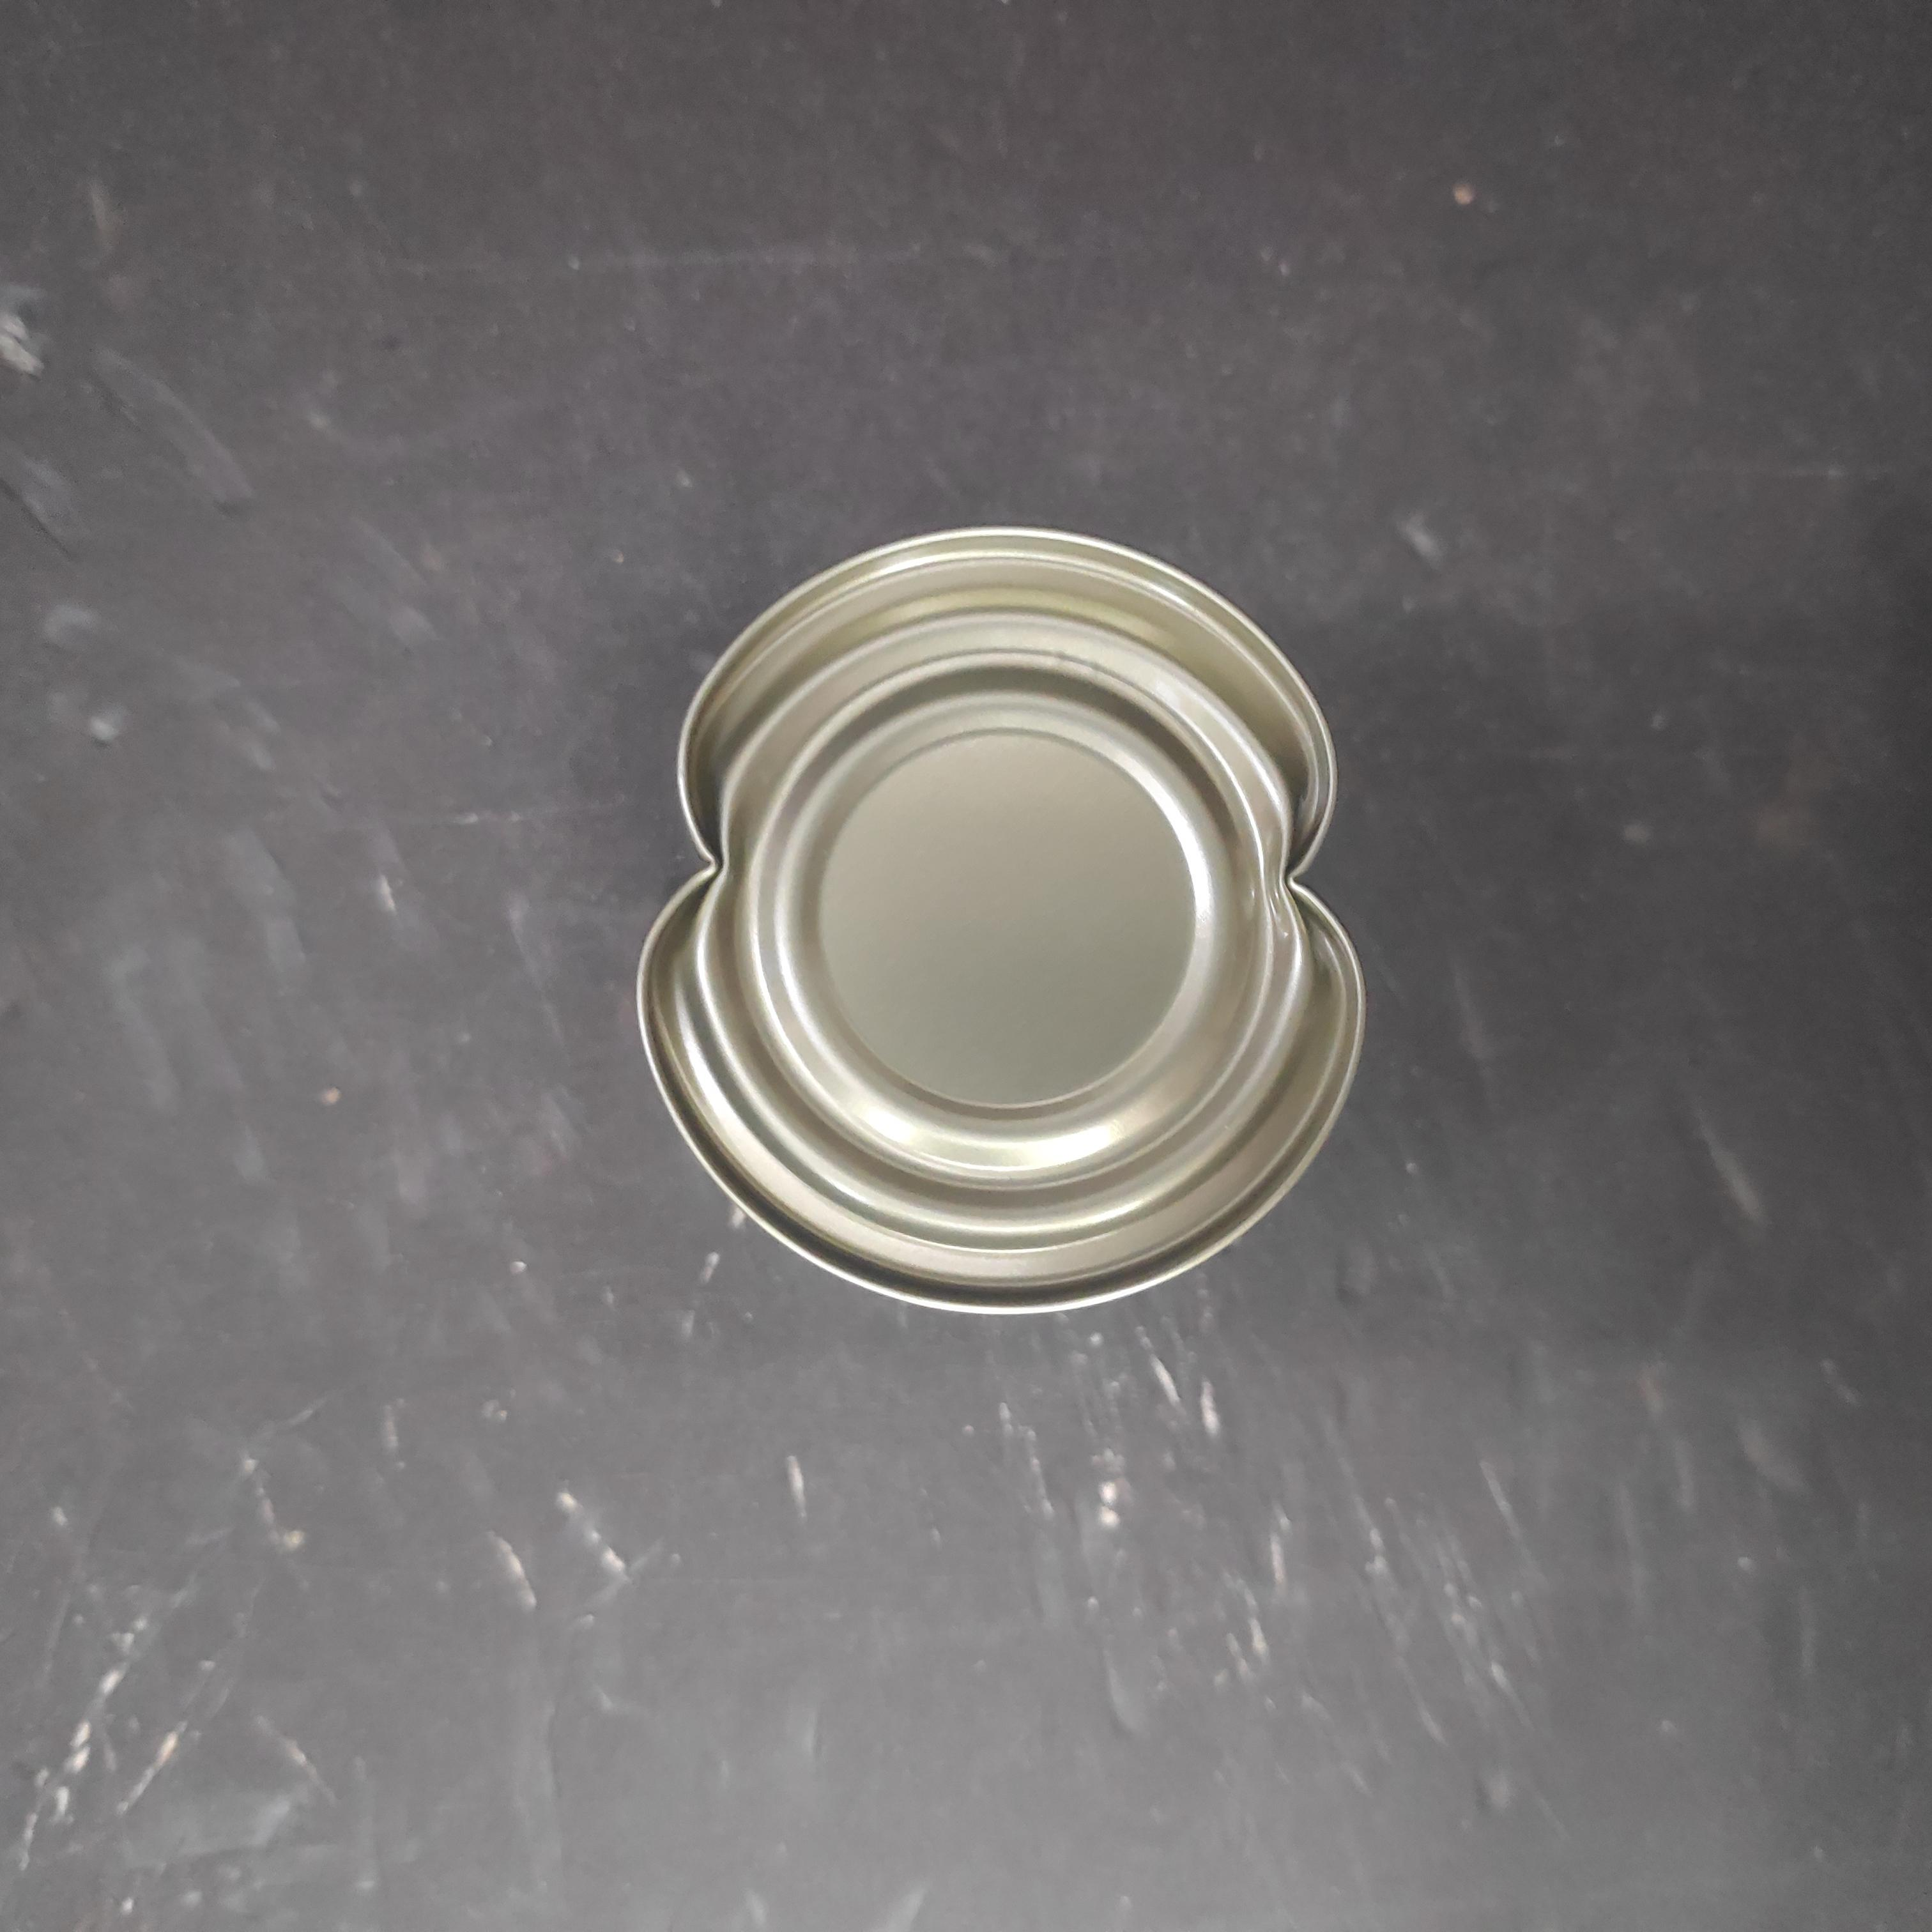Critical Defect: (561, 607, 1302, 1417)
